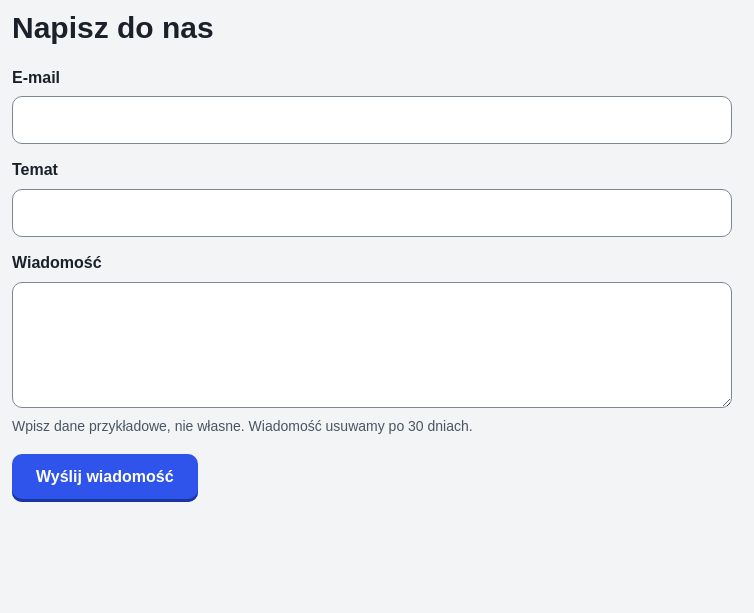
Test case: ContactForm (F-221) › 201: komunikat z API, jedno generate_lead (kontakt, 0 PLN) bez danych osobowych, formularz wyczyszczony
Type "ola@taktyl.example" into the field labelled "E-mail" at (372, 120), box 12,96 -> 732,144
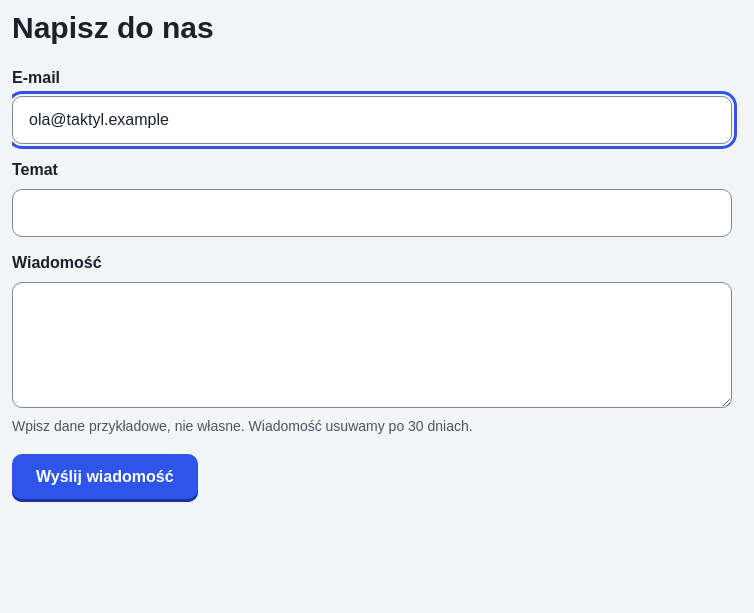
Type "Pytanie o set" into the field labelled "Temat" at (372, 213), box 12,189 -> 732,237
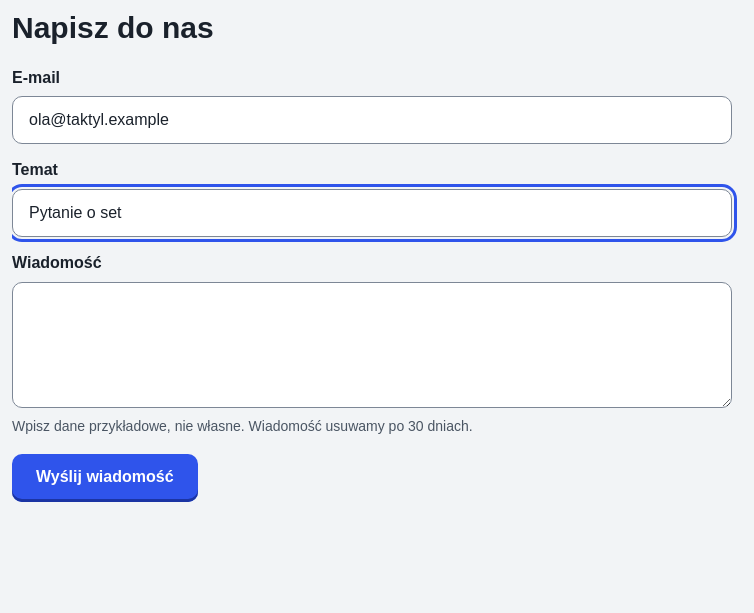
Type "Czy Bazalt 75 ma wersję cichą?" into the text box labelled "Wiadomość" at (372, 345), box 12,282 -> 732,408
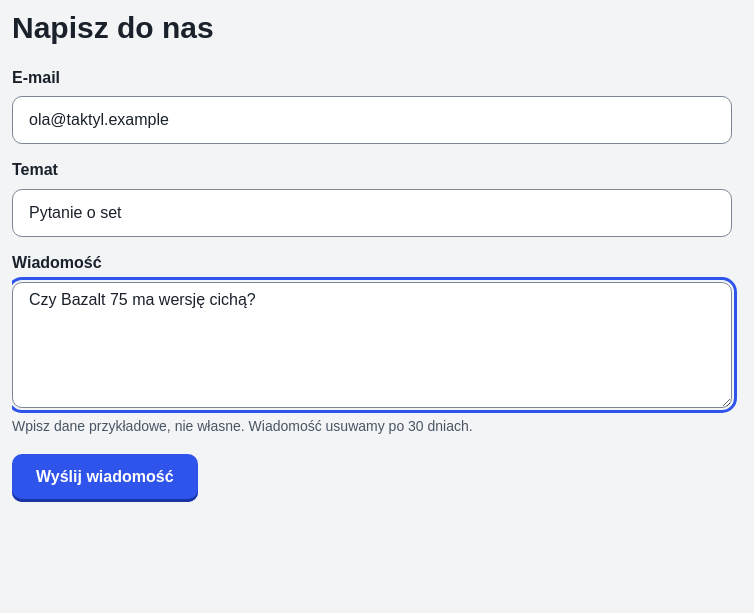
Click the button "Wyślij wiadomość" at (105, 478), box 12,454 -> 198,502
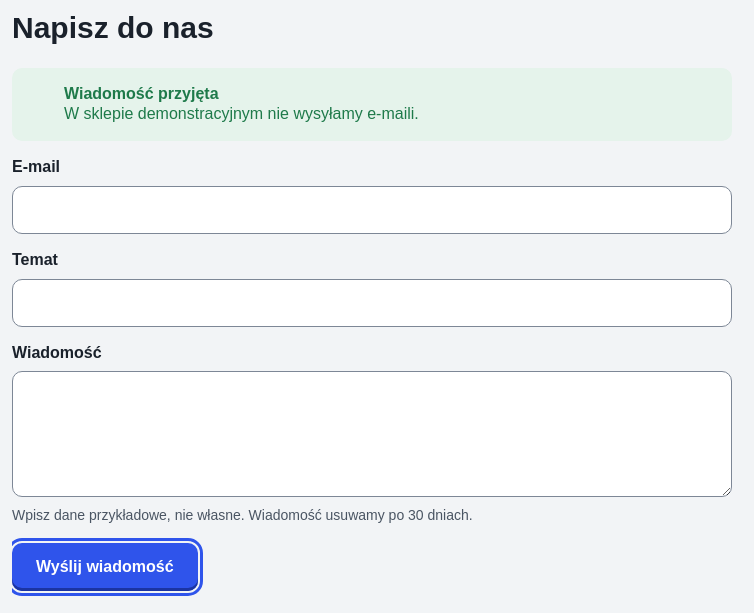
Check: the text "W sklepie demonstracyjnym nie wysyłamy e-maili." is shown, box 64,105 -> 419,122
Check: the field labelled "E-mail" is empty, box 12,186 -> 732,234
